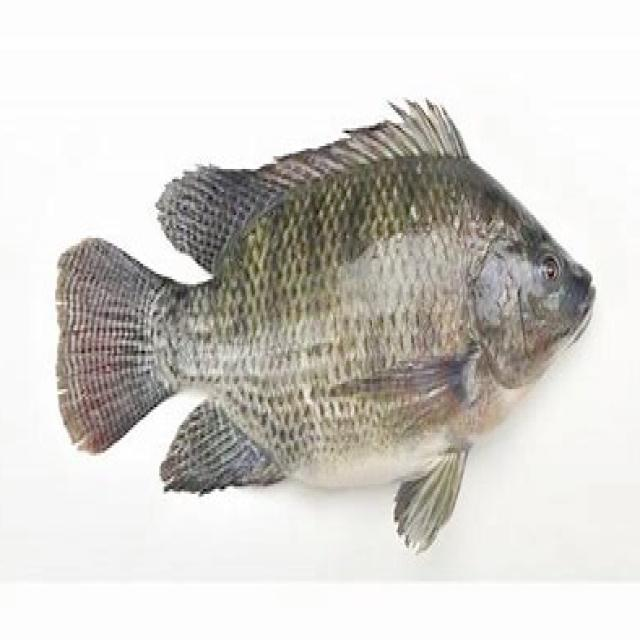Tilapia: (53, 104, 596, 557)
